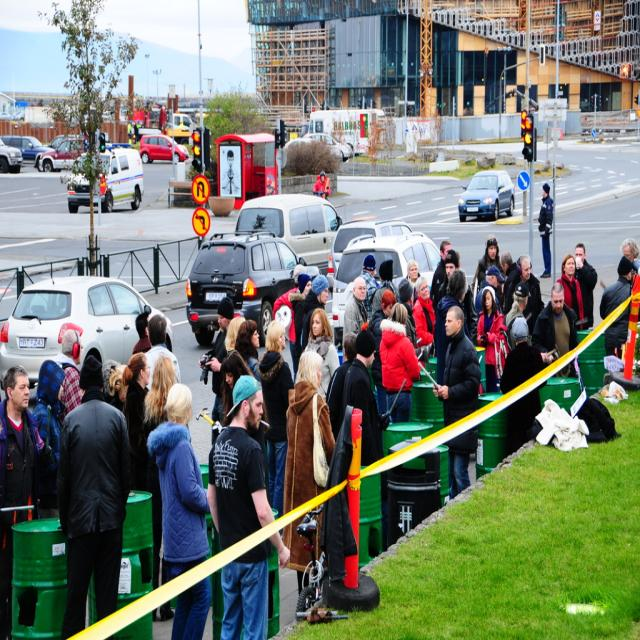car: (456, 167, 513, 219)
